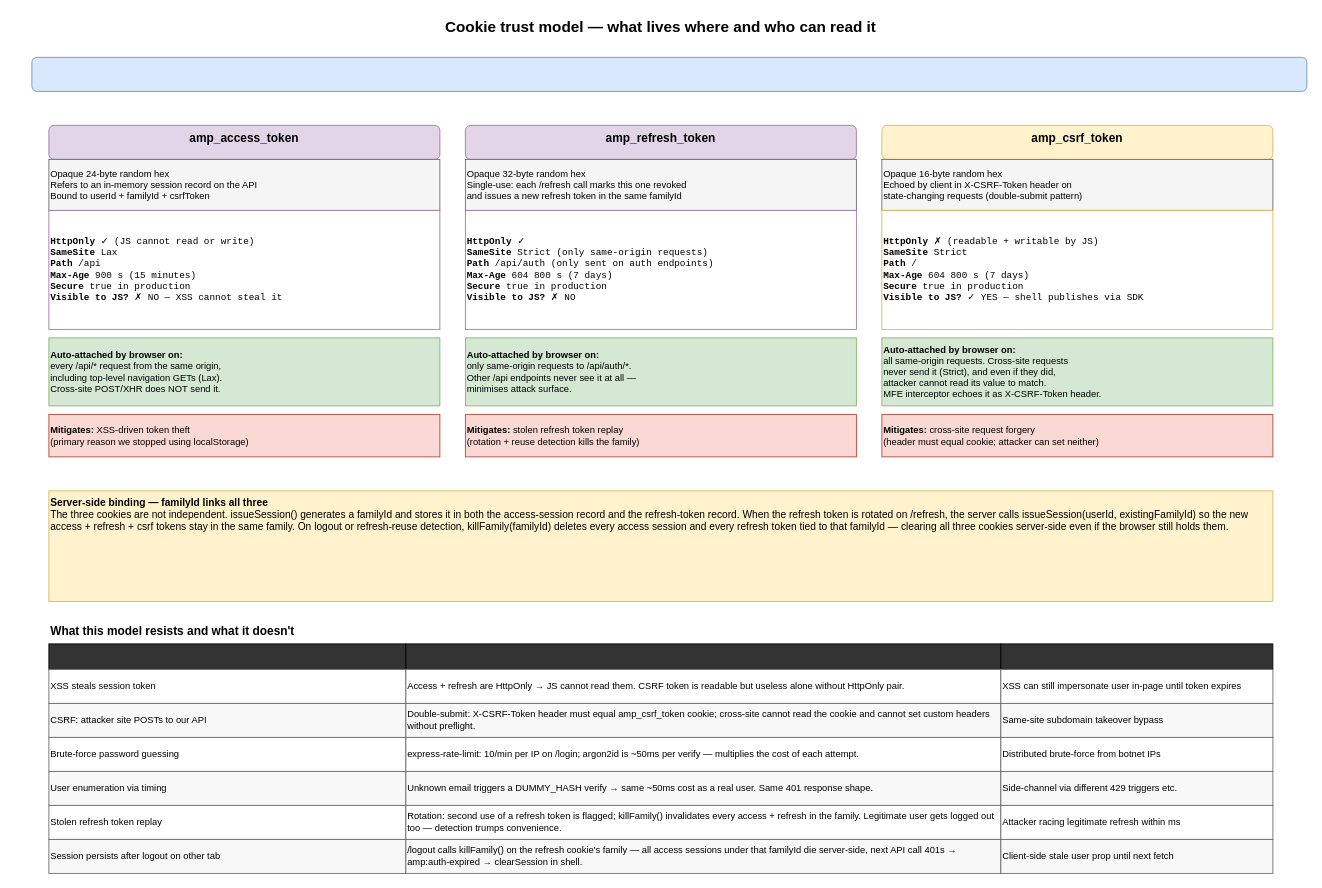
Some shapes in this 1322 by 888 pixel diagram are drawn without their labels. The shapes that lost their labels are listed below. From the top down, each one's box as (x1, y1, x2, y2) in pixels, then its label:
(31, 57, 1307, 91): Browser cookie jar (origin: http://localhost:5173)
(48, 643, 406, 669): Threat
(405, 643, 1001, 669): Defence
(1000, 643, 1273, 669): Residual risk
